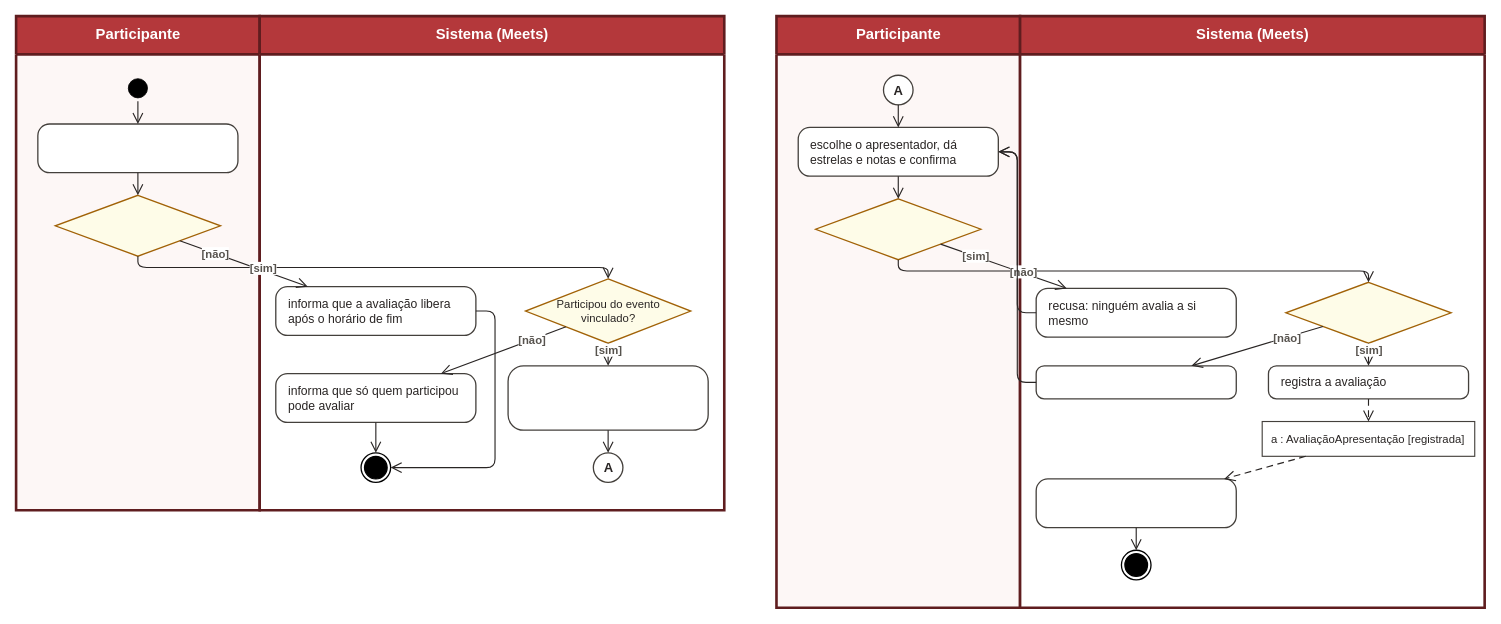
The diagram is 1501 pixels wide and 624 high, and some of its shapes have lost their labels. The shapes that lost their labels are listed below. From the top down, each one's centre as x and y in pixels, then its label:
At [137,148]: "abre “Avaliar” pelo lembrete ou pela lista de apresentações".
At [137,225]: "Apresentação encerrada?".
At [898,229]: "Avaliando a si mesmo?".
At [1368,312]: "Notas dentro da escala?".
At [607,397]: "exibe os apresentadores vinculados, as estrelas e os 6 atributos (0 a 99)".
At [1136,382]: "pede correção".
At [1136,503]: "recalcula médias por atributo e a pontuação geral (ranking)".
